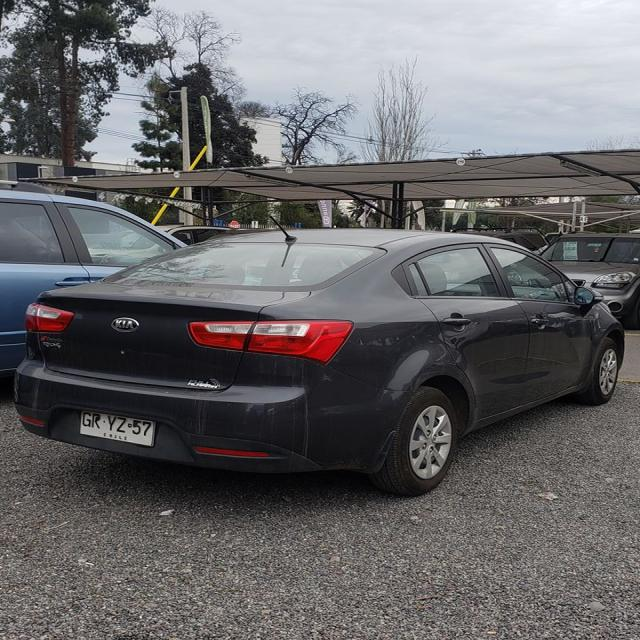patente: (78, 410, 156, 447)
